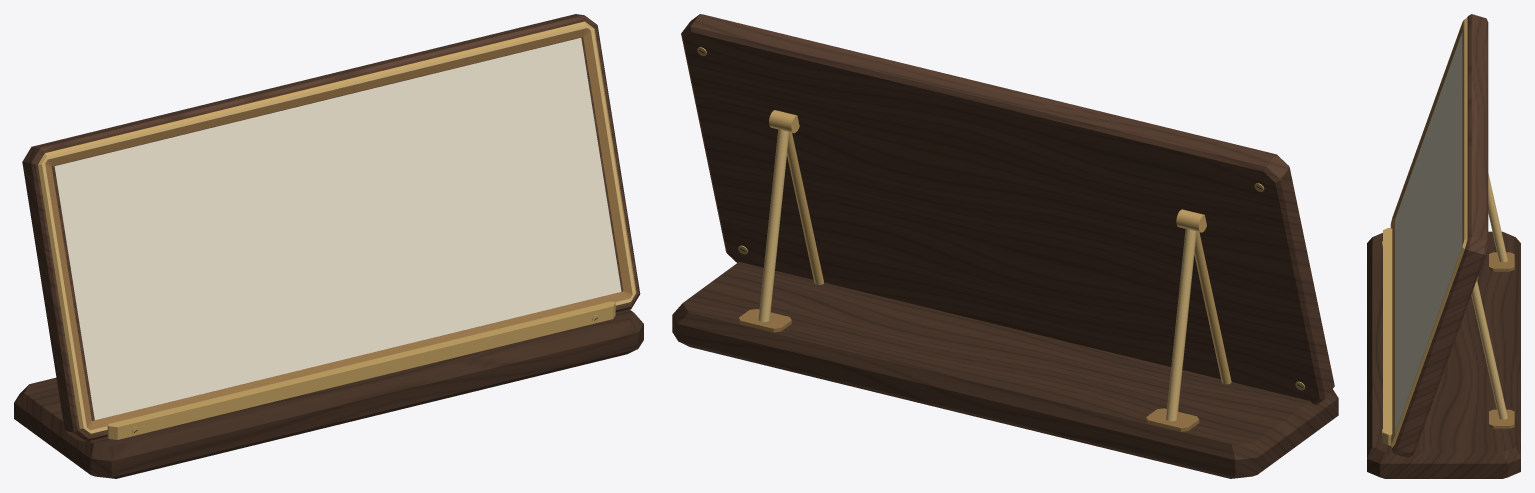
The model's file is table-menu-stand.glb.
The picture shows the model from 3 angles, left to right: view 1: azimuth 30°, elevation 25°; view 2: azimuth 150°, elevation 25°; view 3: azimuth 270°, elevation 25°; orthographic projection. The views are drawn at different scales.
Visible parts, largest first — view 1: Menu_Card, Menu_Plinth, Menu_Liner, Menu_Board, Menu_Fittings; view 2: Menu_Board, Menu_Plinth, Menu_Fittings; view 3: Menu_Plinth, Menu_Card, Menu_Board, Menu_Fittings, Menu_Liner.
Boxes of the visible parts, box(x1,y1,x2,y2) form: Menu_Card: box(54, 38, 621, 420); Menu_Plinth: box(14, 309, 643, 478); Menu_Liner: box(38, 21, 636, 436); Menu_Board: box(22, 14, 640, 441); Menu_Fittings: box(107, 301, 615, 439); Menu_Board: box(681, 14, 1334, 404); Menu_Plinth: box(672, 262, 1338, 478); Menu_Fittings: box(738, 110, 1231, 431); Menu_Plinth: box(1367, 231, 1520, 478); Menu_Card: box(1395, 31, 1462, 433); Menu_Board: box(1392, 14, 1488, 457); Menu_Fittings: box(1382, 173, 1514, 445); Menu_Liner: box(1390, 18, 1467, 447).
Size of the model in its own units: 0.256 by 0.1259 by 0.072.
Materials: 3 (1 with a texture image).
